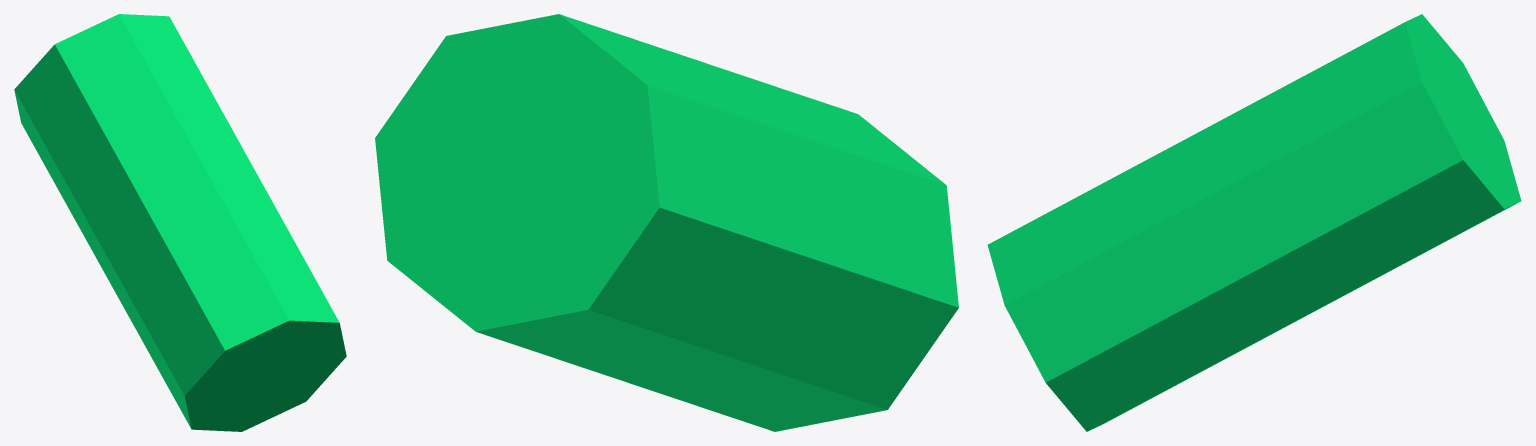
File: gun.fbx
3 views of the same model, side by side, from view 1: azimuth 30°, elevation 25°; view 2: azimuth 150°, elevation 25°; view 3: azimuth 270°, elevation 25° (orthographic). The views are drawn at different scales.
Parts seen in each view (by area): view 1: pCylinder2; view 2: pCylinder2; view 3: pCylinder2.
Part boxes in pixels (x1,y1,x2,y2): pCylinder2: (14,14,346,431); pCylinder2: (375,14,958,431); pCylinder2: (987,14,1521,431).
Bounding box in the file's own units: 0.9464 × 1.83 × 2.2.
